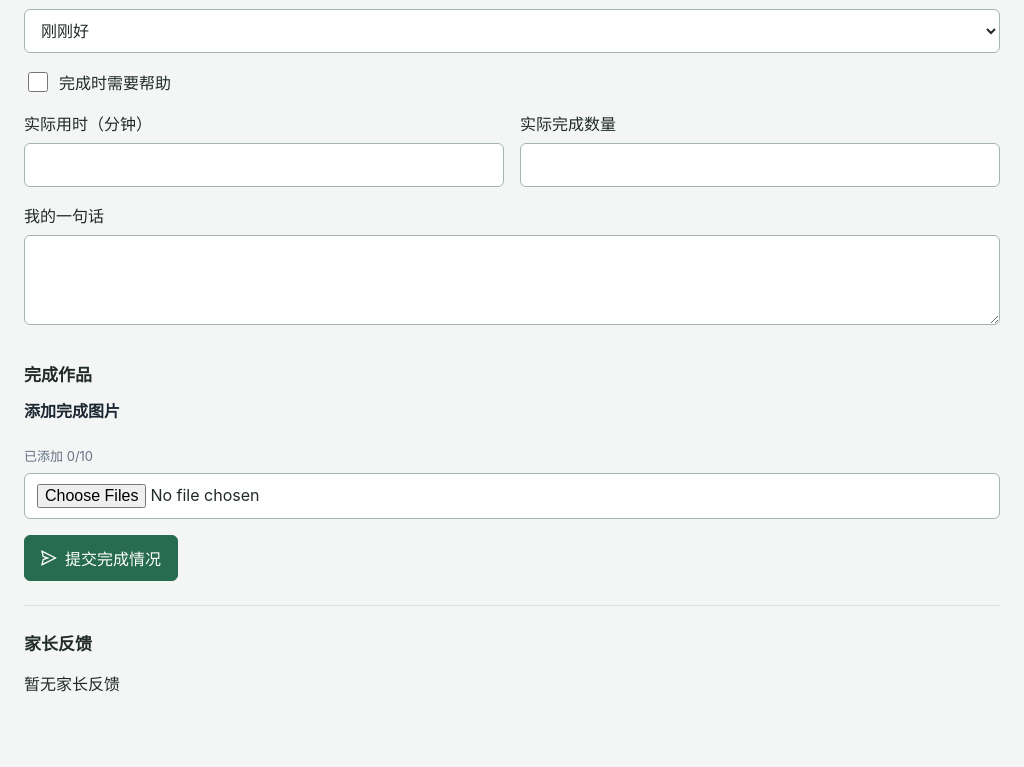
Scenario: child task completion › disables duplicate completion while the request is in flight
(page scrolled)
Click the button "提交完成情况" at (101,558), box [24,535,178,581]
(page scrolled)
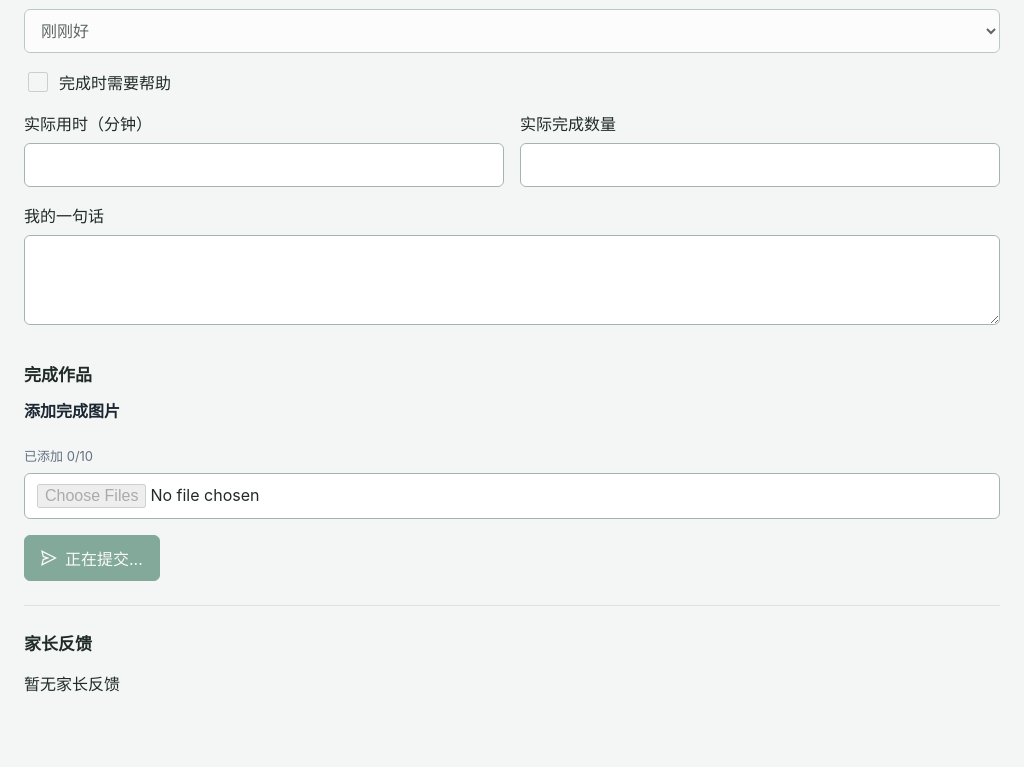
Expected: the button named "提交完成情况" is disabled
Click the button named "提交完成情况" at (92,558), box [24,535,160,581]
(page scrolled)
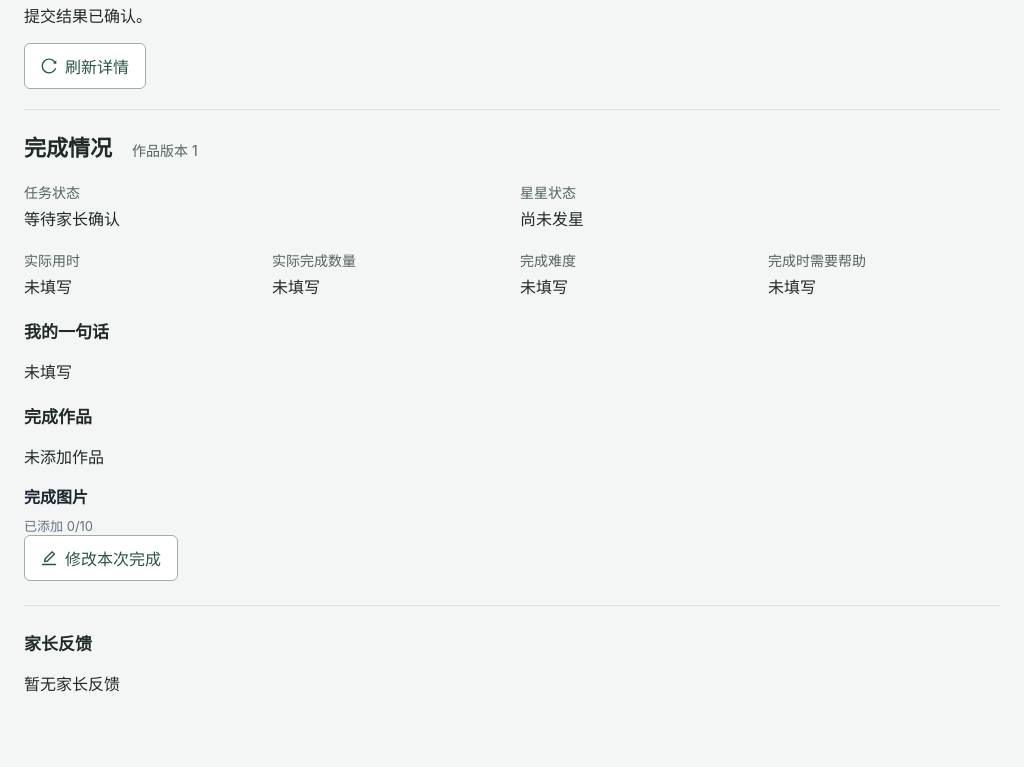
Expected: the text "提交结果已确认。" is shown, [24,6,152,26]
